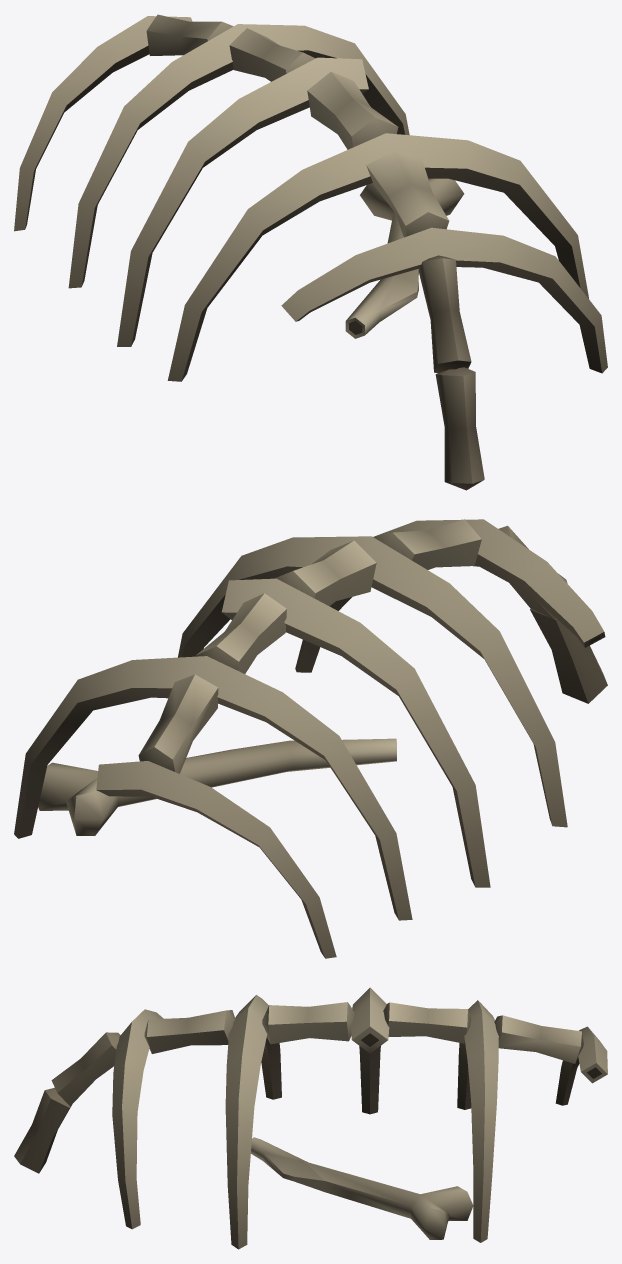
Rendered from Animal_Carcass_2A.fbx.
3 views of the same model, one above another, from view 1: azimuth 30°, elevation 25°; view 2: azimuth 150°, elevation 25°; view 3: azimuth 270°, elevation 25° (orthographic). The views are drawn at different scales.
Visible parts, largest first — view 1: Animal_Carcass_2A; view 2: Animal_Carcass_2A; view 3: Animal_Carcass_2A.
Part boxes in pixels (x1,y1,x2,y2): Animal_Carcass_2A: (14, 14, 607, 490); Animal_Carcass_2A: (14, 519, 607, 958); Animal_Carcass_2A: (14, 987, 607, 1249).
Size of the model in its own units: 229 by 139 by 383.
